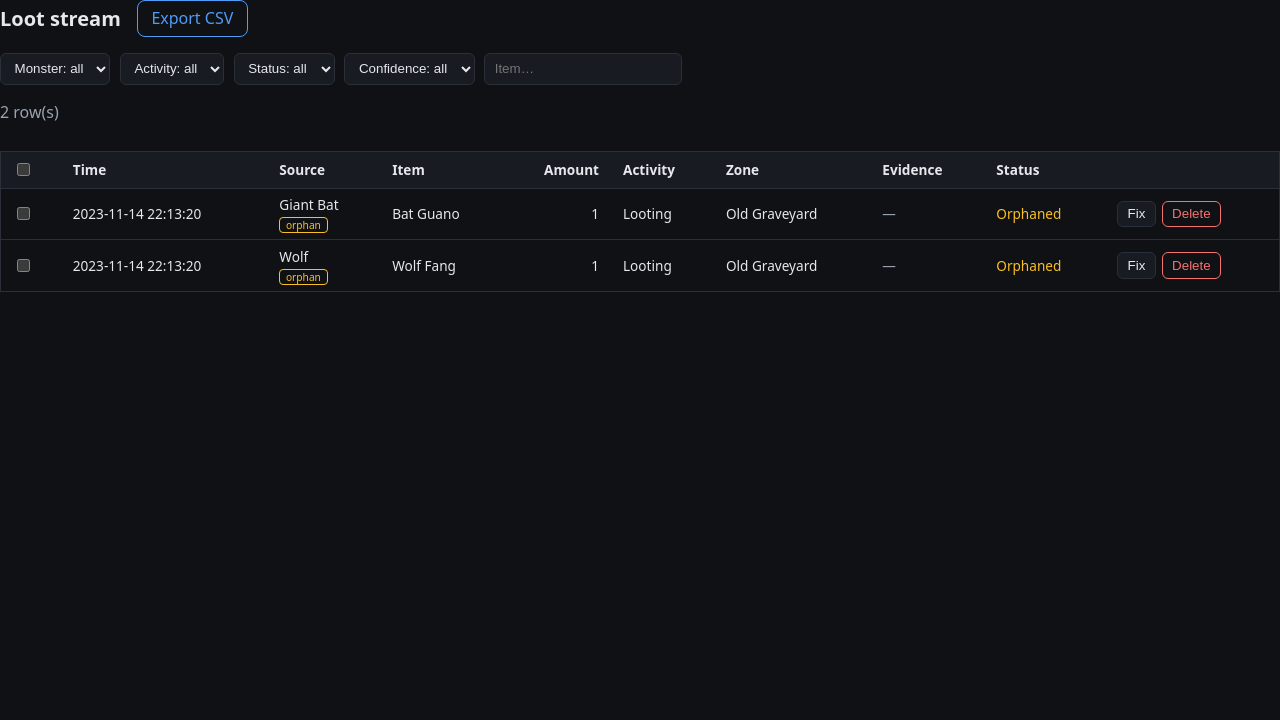
Test: LootPage › deletes multiple selected rows at once
Expected: the text "Bat Guano" is shown, [380,188,504,240]
Click the checkbox named "Select row 7" at (24, 214), box [17,207,30,220]
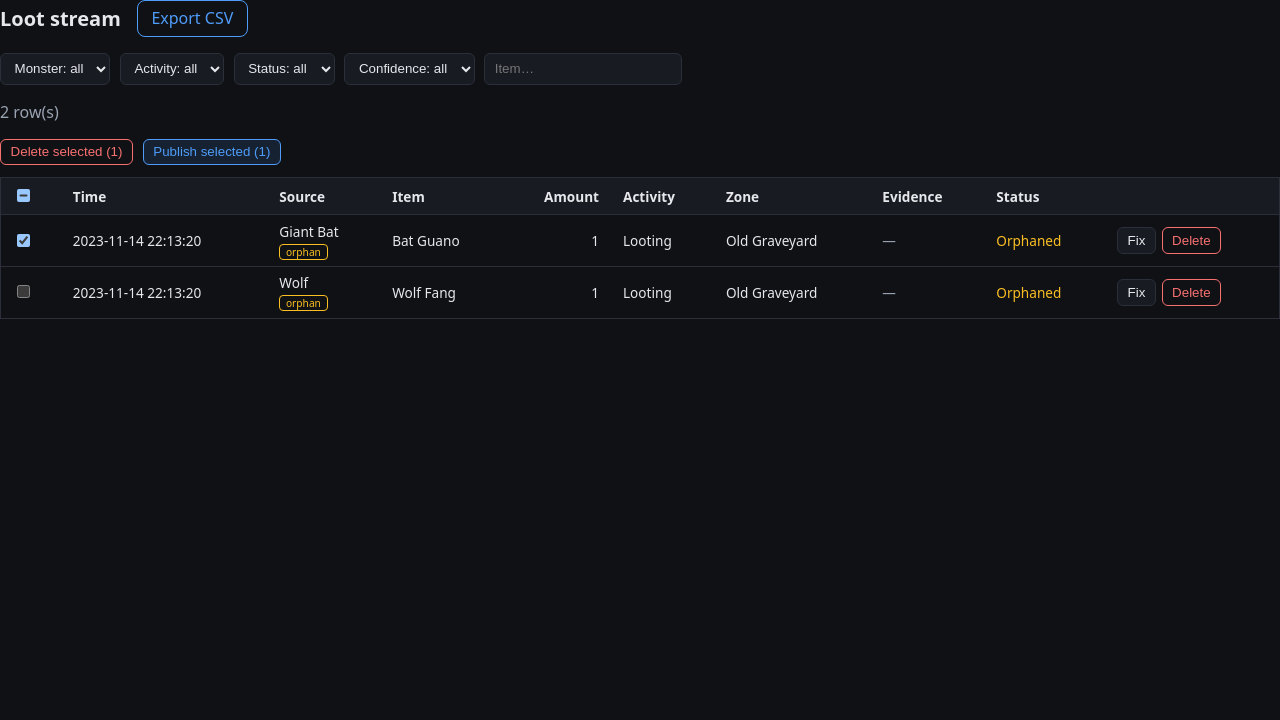
Click the checkbox named "Select row 8" at (24, 292), box [17,285,30,298]
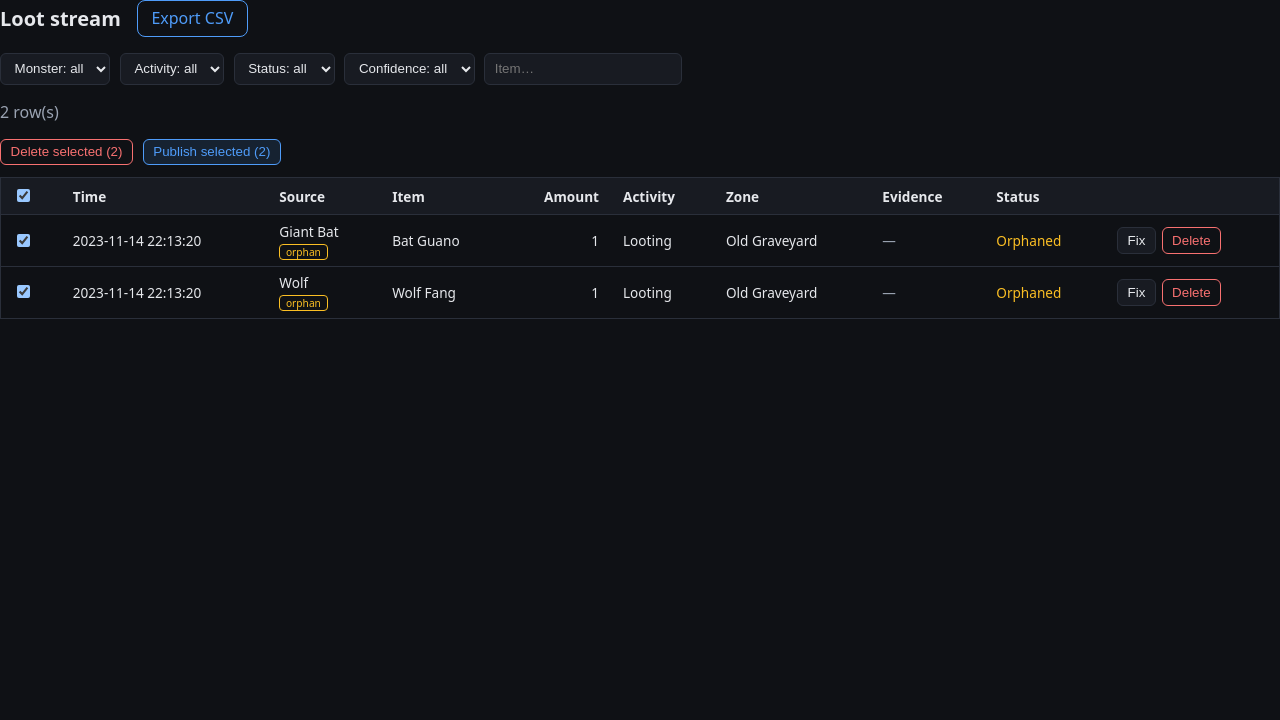
Click the button "Delete selected (2)" at (67, 152), box [0,139,133,165]
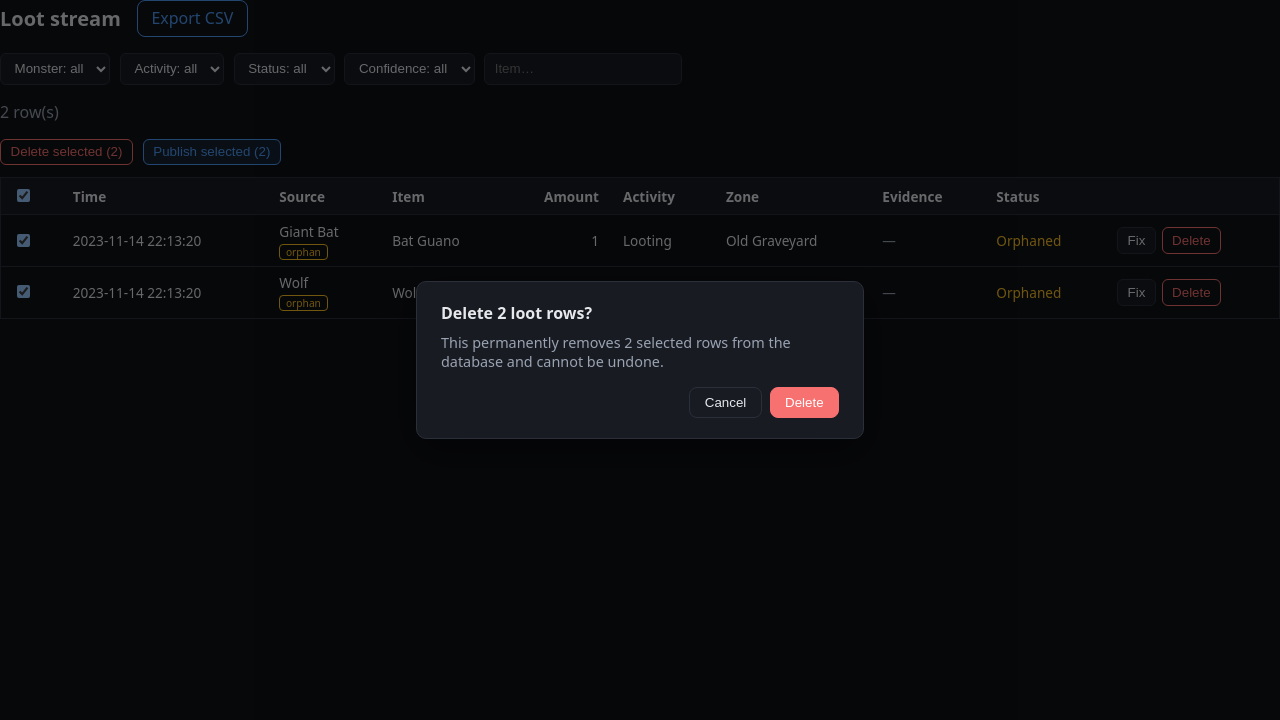
Now the heading "Delete 2 loot rows?" is shown, box [441,302,592,324]
Click the button "Delete" at (804, 403), box [770,387,839,418]
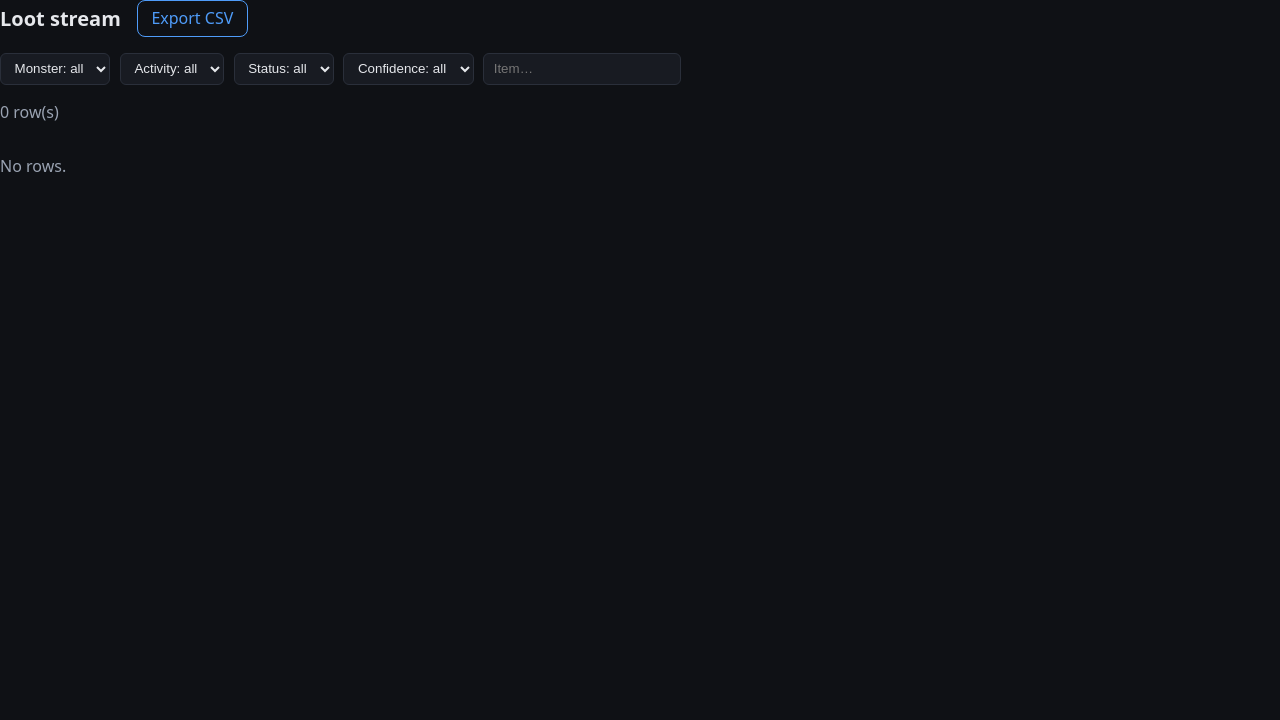
Now the text "Bat Guano" is gone
